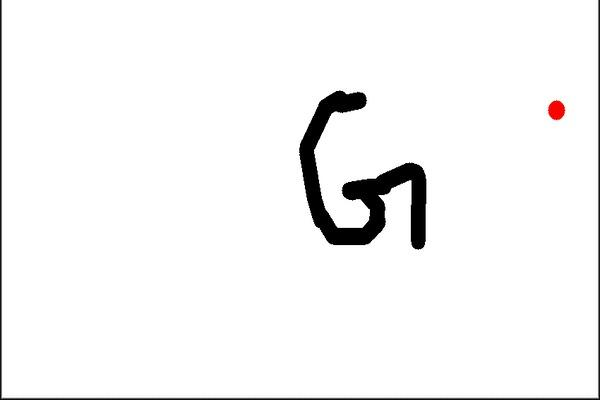G: (293, 85, 434, 254)
